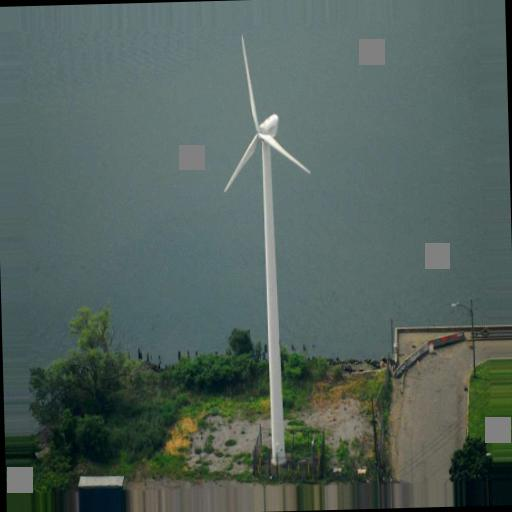wind turbine: (222, 33, 315, 467)
